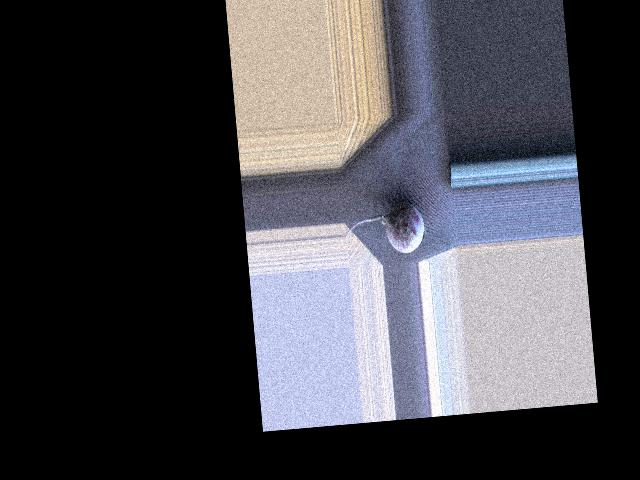beet: (343, 200, 426, 257)
